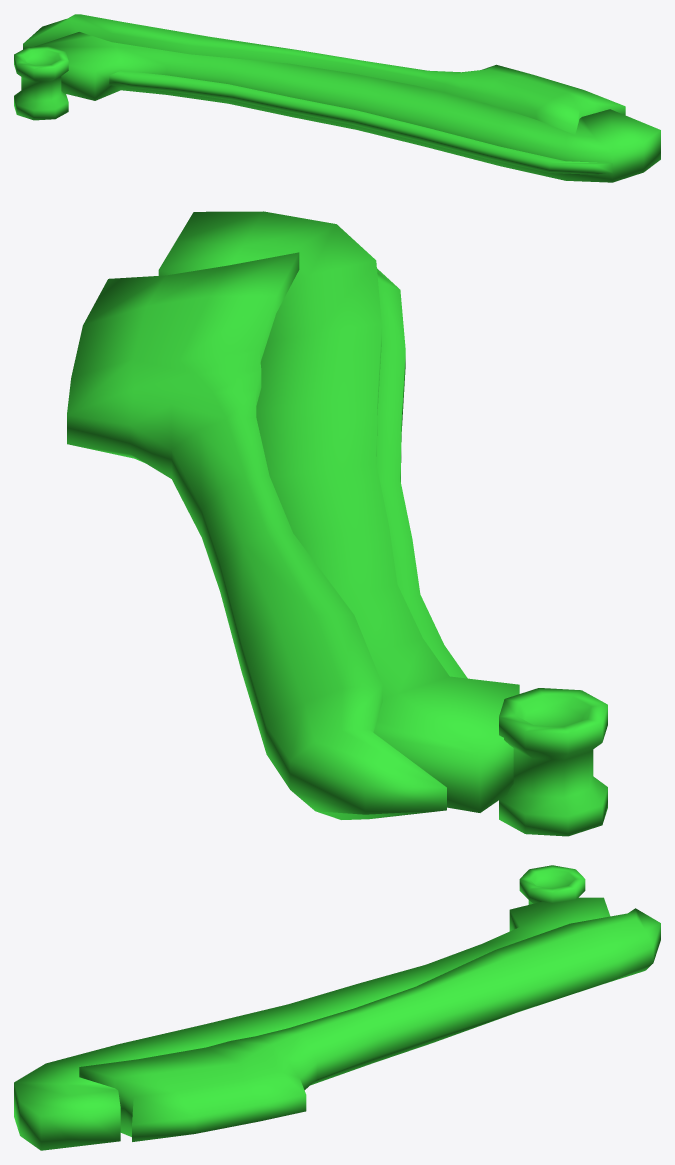
Rendered from SM_Pate_03.fbx.
3 views of the same model, one above another, from view 1: azimuth 30°, elevation 25°; view 2: azimuth 150°, elevation 25°; view 3: azimuth 270°, elevation 25° (orthographic). The views are drawn at different scales.
Parts seen in each view (by area): view 1: SM_Pate_03; view 2: SM_Pate_03; view 3: SM_Pate_03.
Part boxes in pixels (x1,y1,x2,y2): SM_Pate_03: [14, 14, 660, 182]; SM_Pate_03: [67, 211, 607, 836]; SM_Pate_03: [14, 865, 660, 1150].
Bounding box in the file's own units: 0.9769 × 0.1118 × 1.1.
